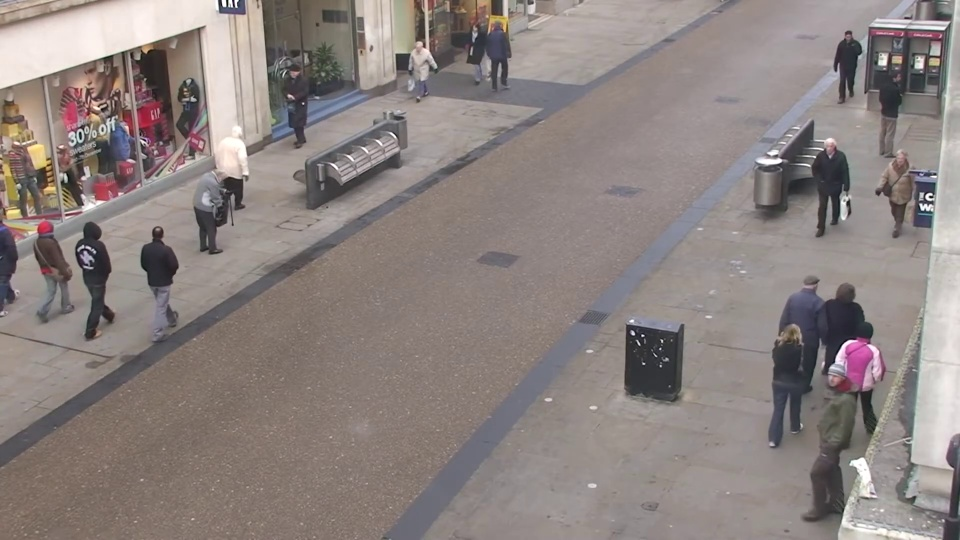pedestrian: (787, 360, 847, 522), (837, 308, 895, 456), (764, 311, 818, 459), (815, 271, 868, 408), (785, 262, 835, 396), (32, 209, 88, 326), (78, 213, 131, 332), (143, 215, 192, 334), (872, 146, 917, 252), (204, 165, 246, 271), (806, 135, 845, 237), (227, 119, 264, 214), (872, 67, 912, 153), (277, 65, 308, 145), (828, 27, 860, 102), (404, 38, 431, 112), (464, 20, 489, 89), (492, 18, 516, 86)
